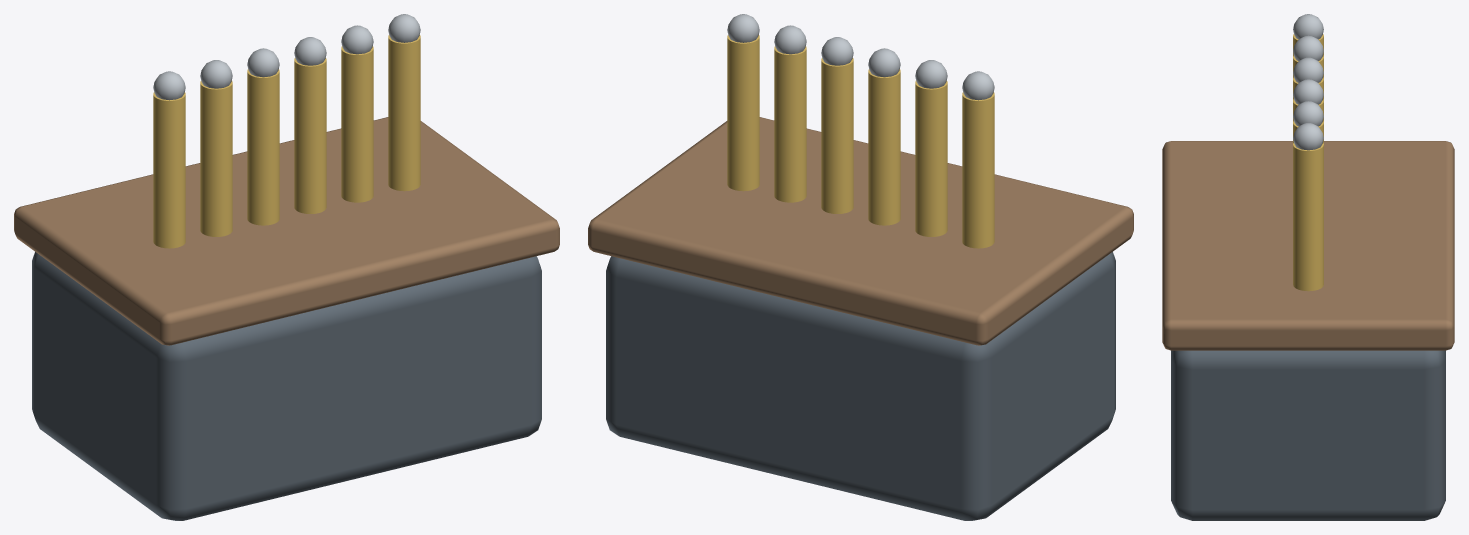
Rendered from arena-shooter-map-kit-ammo-machine-gun-4e71e149__23119.glb.
3 renders of one model, left to right at view 1: azimuth 30°, elevation 25°; view 2: azimuth 150°, elevation 25°; view 3: azimuth 270°, elevation 25°, orthographic. The views are drawn at different scales.
Visible parts, largest first — view 1: ammo-machine-gun; view 2: ammo-machine-gun; view 3: ammo-machine-gun.
Part boxes in pixels (x1=…): ammo-machine-gun: x1=14, y1=14, x2=559, y2=520; ammo-machine-gun: x1=588, y1=14, x2=1133, y2=520; ammo-machine-gun: x1=1162, y1=14, x2=1454, y2=520.
Size of the model in its own units: 0.51 by 0.476 by 0.34.
